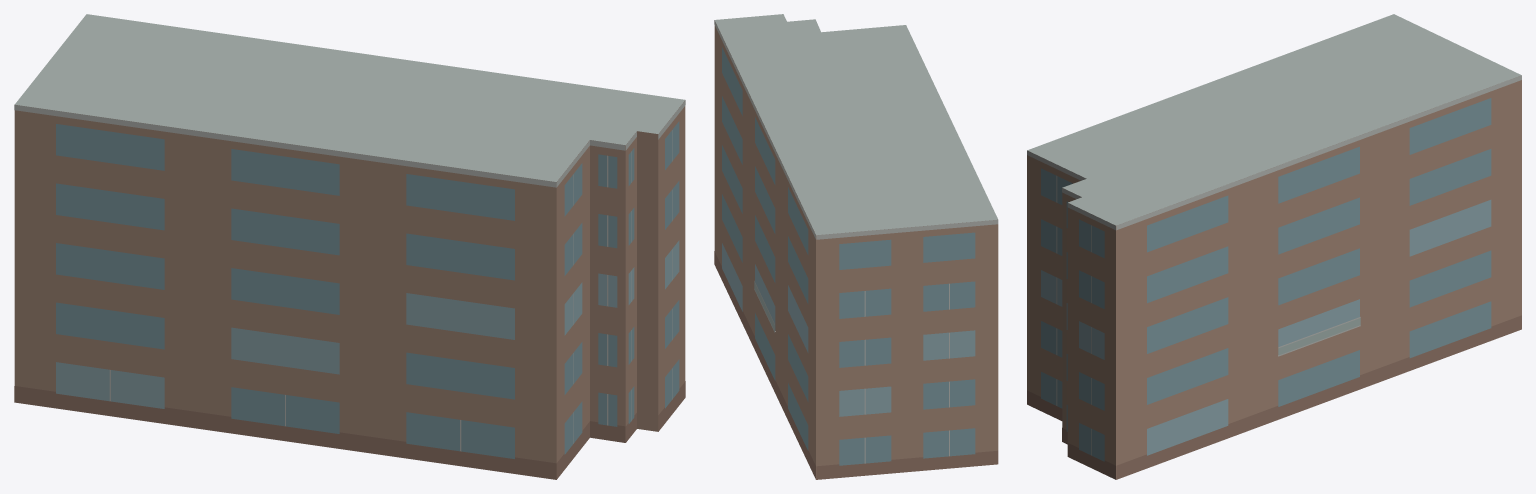
File: survey-upis-33026287.glb
3 renders of one model, left to right at view 1: azimuth 30°, elevation 25°; view 2: azimuth 150°, elevation 25°; view 3: azimuth 270°, elevation 25°, orthographic. The views are drawn at different scales.
Visible parts, largest first — view 1: survey-upis-33026287.tmp; view 2: survey-upis-33026287.tmp; view 3: survey-upis-33026287.tmp.
Boxes of the visible parts, x1,y1,x2,y2 form: survey-upis-33026287.tmp: (14,14,685,479); survey-upis-33026287.tmp: (714,14,998,479); survey-upis-33026287.tmp: (1027,14,1521,479).
Size of the model in its own units: 23.4 by 13.1 by 23.11.
